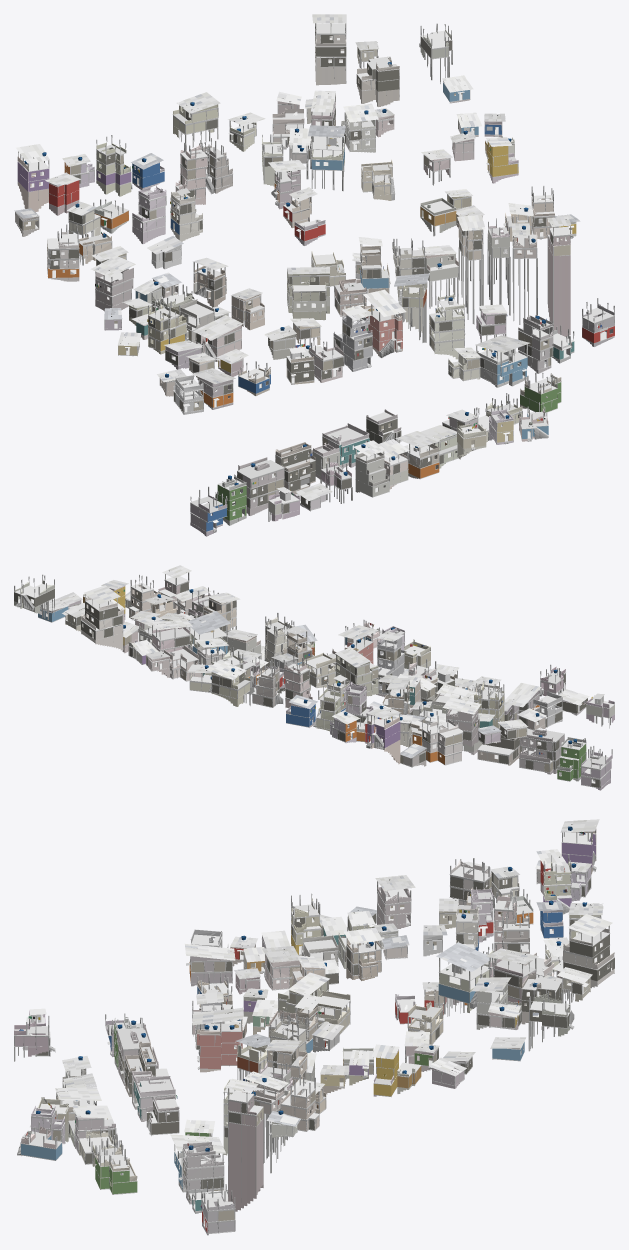
The picture shows the model from 3 angles, top to bottom: view 1: azimuth 30°, elevation 25°; view 2: azimuth 150°, elevation 25°; view 3: azimuth 270°, elevation 25°; orthographic projection. The views are drawn at different scales.
Visible parts, largest first — view 1: T_25_27; view 2: T_25_27; view 3: T_25_27.
Part boxes in pixels (left/top/right/bottom): T_25_27: left=14, top=14, right=614, bottom=536; T_25_27: left=14, top=565, right=614, bottom=790; T_25_27: left=14, top=819, right=614, bottom=1235.
Bounding box in the file's own units: 134 × 79.02 × 137.
